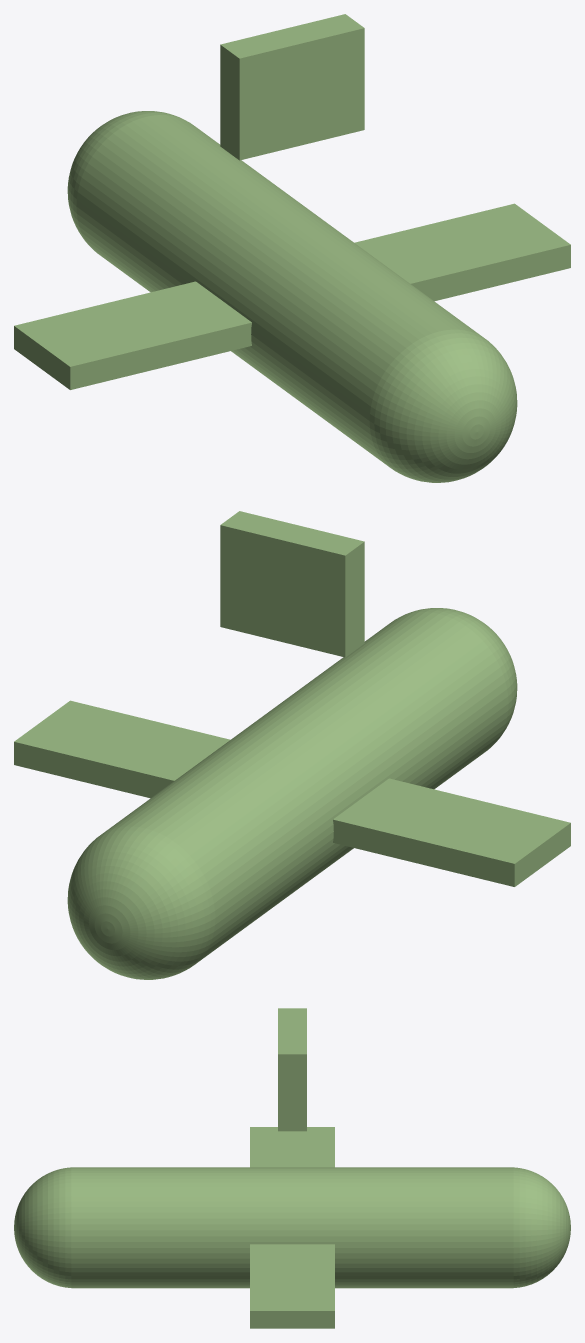
Rendered from tech_124.glb.
3 views of the same model, one above another, from view 1: azimuth 30°, elevation 25°; view 2: azimuth 150°, elevation 25°; view 3: azimuth 270°, elevation 25° (orthographic). The views are drawn at different scales.
Visible parts, largest first — view 1: world; view 2: world; view 3: world.
Part boxes in pixels (x1,y1,x2,y2): world: [14, 14, 570, 482]; world: [14, 511, 570, 979]; world: [14, 1008, 570, 1328].
Bounding box in the file's own units: 1.8 × 1.14 × 2.3.
